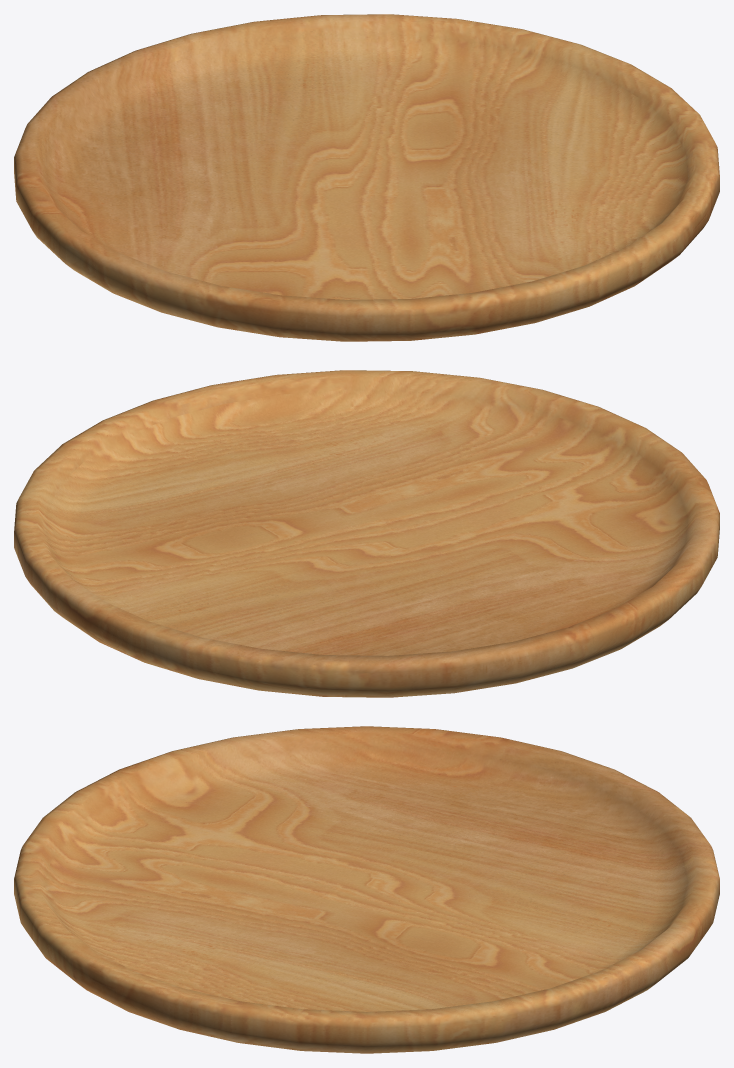
File: plate.fbx
3 views of the same model, one above another, from view 1: azimuth 30°, elevation 25°; view 2: azimuth 150°, elevation 25°; view 3: azimuth 270°, elevation 25° (orthographic).
Parts seen in each view (by area): view 1: wooden-plate; view 2: wooden-plate; view 3: wooden-plate.
Part boxes in pixels (x1,y1,x2,y2): wooden-plate: (14,14,719,341); wooden-plate: (14,370,719,697); wooden-plate: (14,726,719,1053).
Bounding box in the file's own units: 937 × 62.54 × 937.
Materials: 1 (1 with a texture image).
